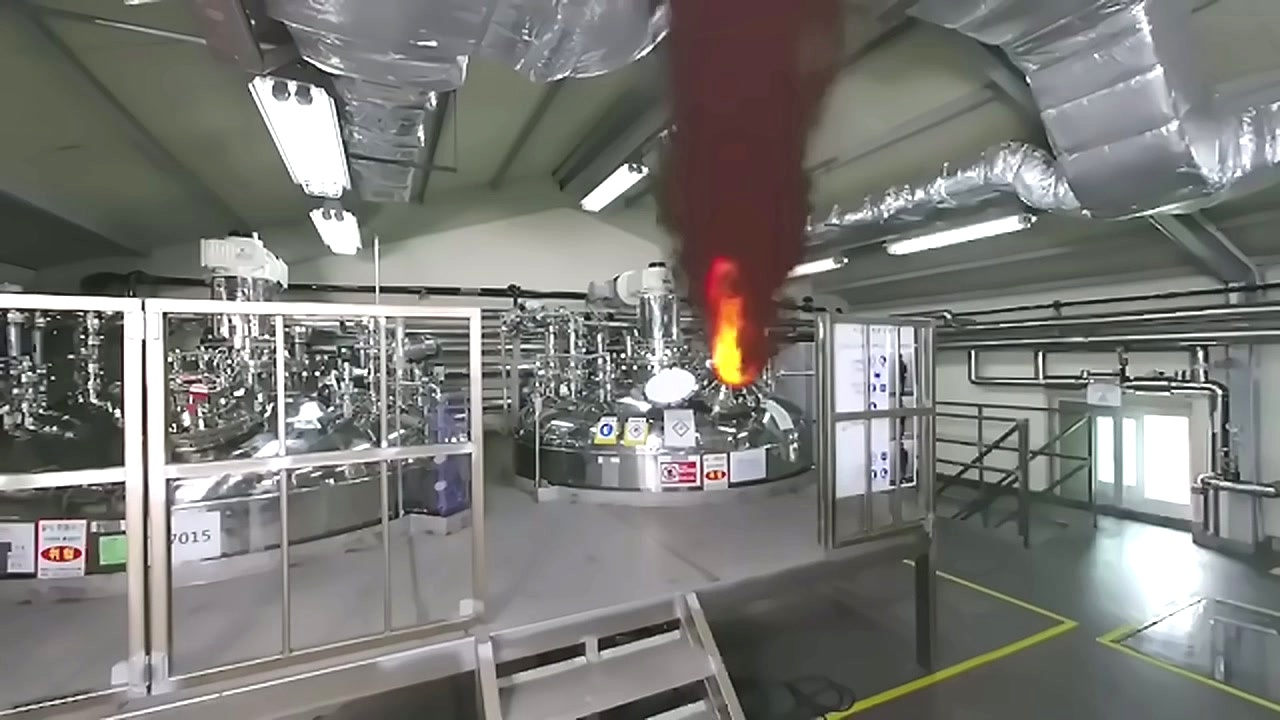fire: (256, 108, 1024, 468)
